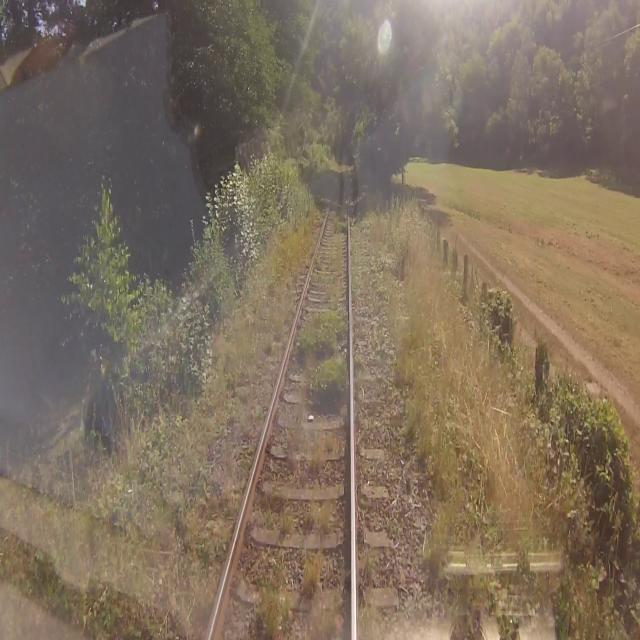Plant: (121, 452, 246, 639), (256, 194, 323, 354), (298, 310, 347, 353), (304, 356, 348, 403), (357, 551, 379, 638), (248, 593, 286, 639), (253, 555, 293, 591), (299, 551, 323, 599), (311, 428, 335, 472), (306, 494, 332, 533), (218, 391, 238, 425), (241, 436, 259, 472), (328, 234, 342, 276), (325, 278, 344, 307), (350, 223, 357, 297), (276, 511, 292, 539), (262, 503, 276, 532), (249, 402, 265, 424), (370, 219, 379, 254), (354, 355, 367, 377), (331, 214, 346, 232), (311, 268, 326, 283), (373, 301, 382, 317), (375, 319, 384, 332), (376, 335, 383, 349), (316, 257, 320, 266)
